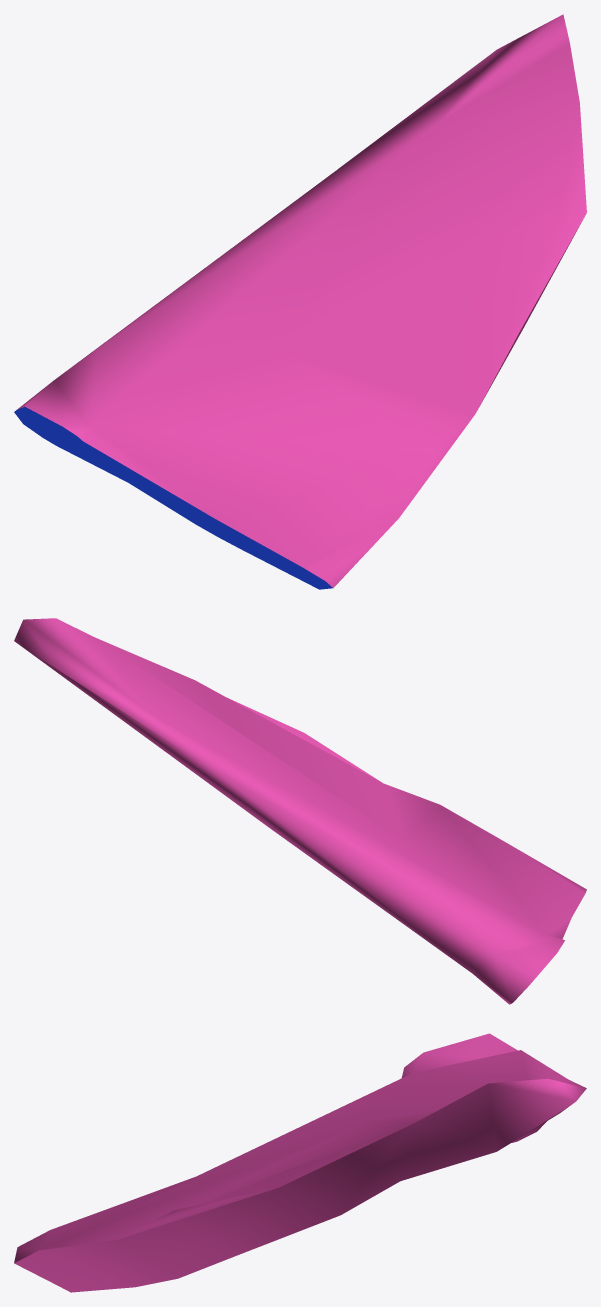
Rendered from SM_StatueJardin_Broken_02.fbx.
3 views of the same model, one above another, from view 1: azimuth 30°, elevation 25°; view 2: azimuth 150°, elevation 25°; view 3: azimuth 270°, elevation 25° (orthographic). The views are drawn at different scales.
Visible parts, largest first — view 1: SM_StatueJardin_Broken_02; view 2: SM_StatueJardin_Broken_02; view 3: SM_StatueJardin_Broken_02.
Boxes of the visible parts, x1,y1,x2,y2 form: SM_StatueJardin_Broken_02: (14, 14, 586, 589); SM_StatueJardin_Broken_02: (14, 618, 586, 1004); SM_StatueJardin_Broken_02: (14, 1033, 586, 1292).
Size of the model in its own units: 3.69 by 2.22 by 2.31.
